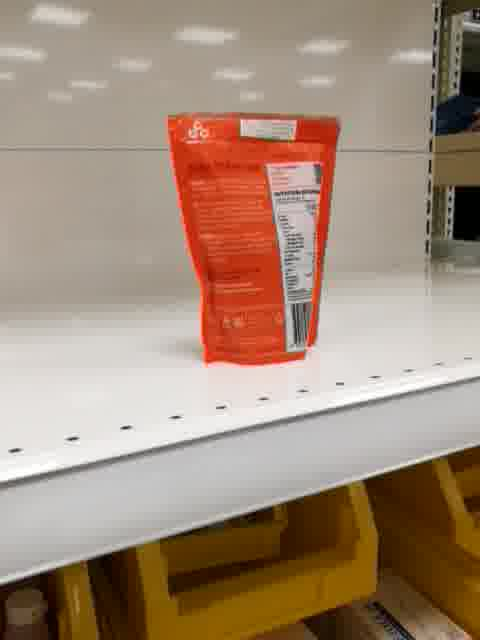whitechia: (166, 106, 346, 369)
